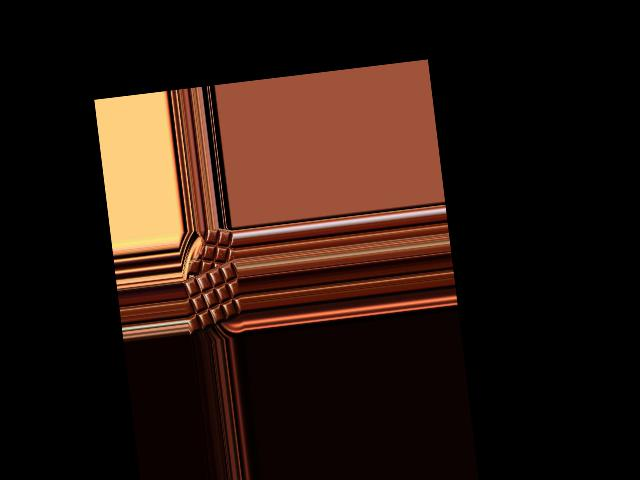chocolate: (182, 258, 245, 336)
